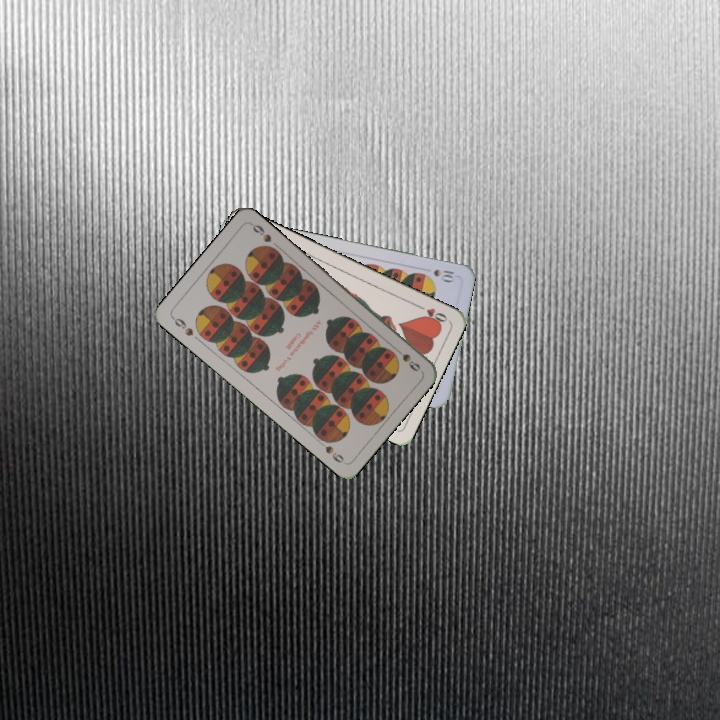HO: (412, 300, 450, 326)
S10: (429, 265, 457, 284)
S9: (390, 343, 423, 374), (168, 313, 196, 339)
